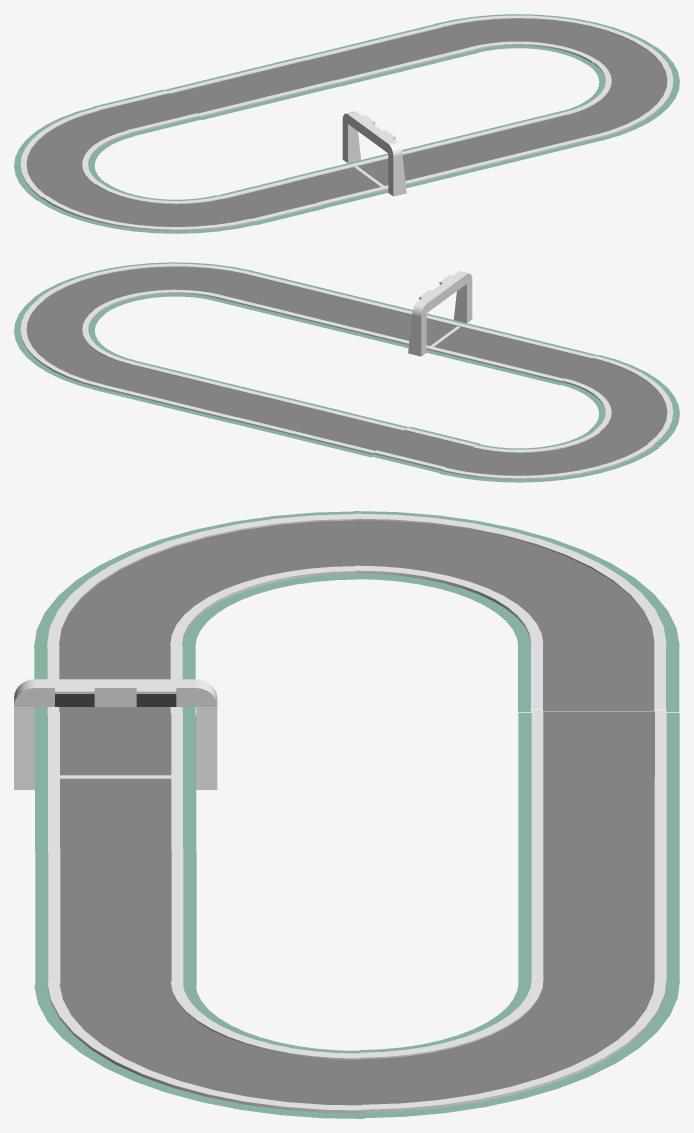
The model's file is updatetrack.gltf.
3 renders of one model, top to bottom at view 1: azimuth 30°, elevation 25°; view 2: azimuth 150°, elevation 25°; view 3: azimuth 270°, elevation 25°, orthographic. The views are drawn at different scales.
Parts seen in each view (by area): view 1: roadStraight(Clone).001; view 2: roadStraight(Clone).001; view 3: roadStraight(Clone).001.
Boxes of the visible parts, left/top/right/bottom form: roadStraight(Clone).001: left=14, top=14, right=679, bottom=233; roadStraight(Clone).001: left=14, top=262, right=679, bottom=482; roadStraight(Clone).001: left=14, top=511, right=679, bottom=1118.
Bounding box in the file's own units: 8.91 × 0.6704 × 4.13.
